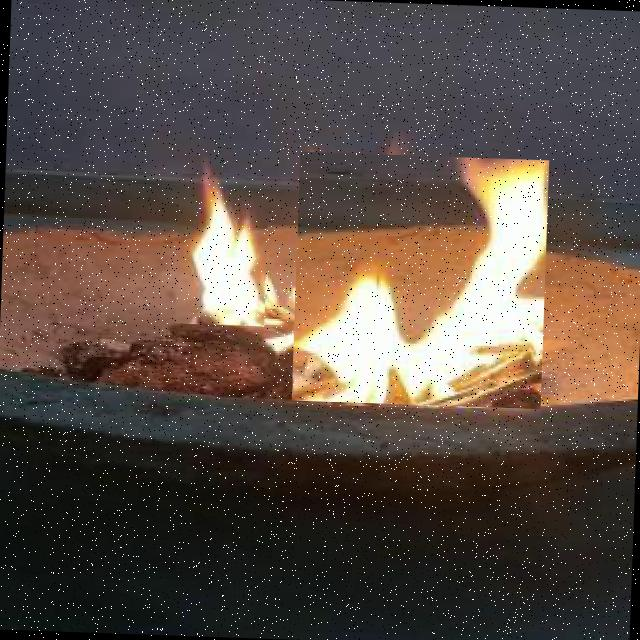fire: (291, 151, 549, 409), (175, 174, 269, 326)
